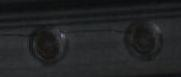joints: (123, 18, 165, 58), (28, 25, 70, 64)
